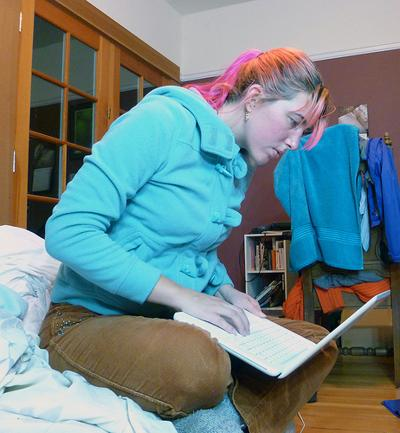person: (41, 48, 341, 422)
